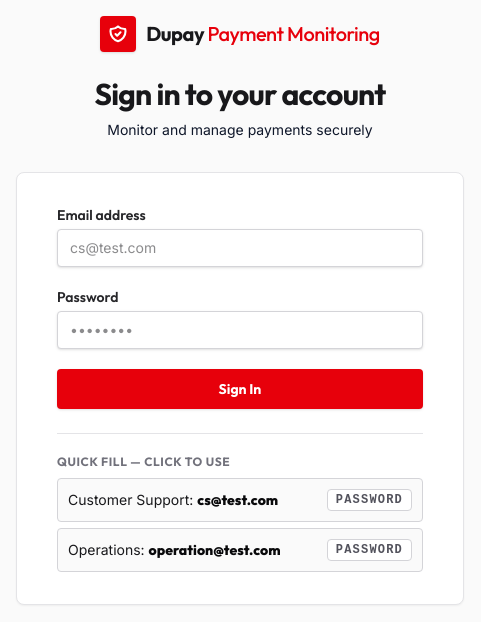
login page › autofills credentials when clicking credential button
Click the button "Customer Support: cs@test.com password": (240, 500) [57, 478, 423, 522]
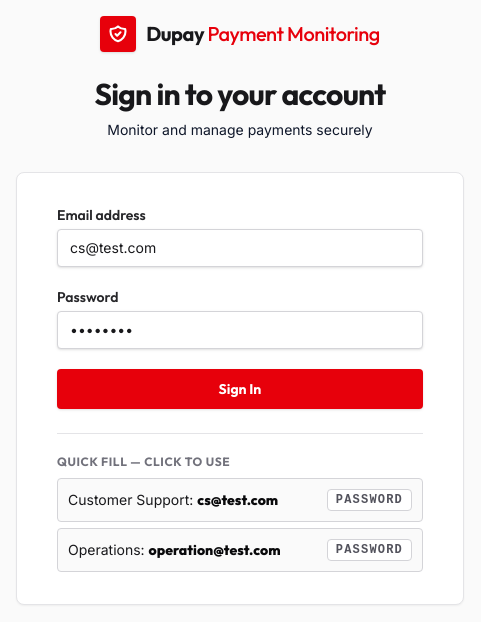
Now the field labelled "Email address" holds "cs@test.com", box [57, 228, 423, 266]
